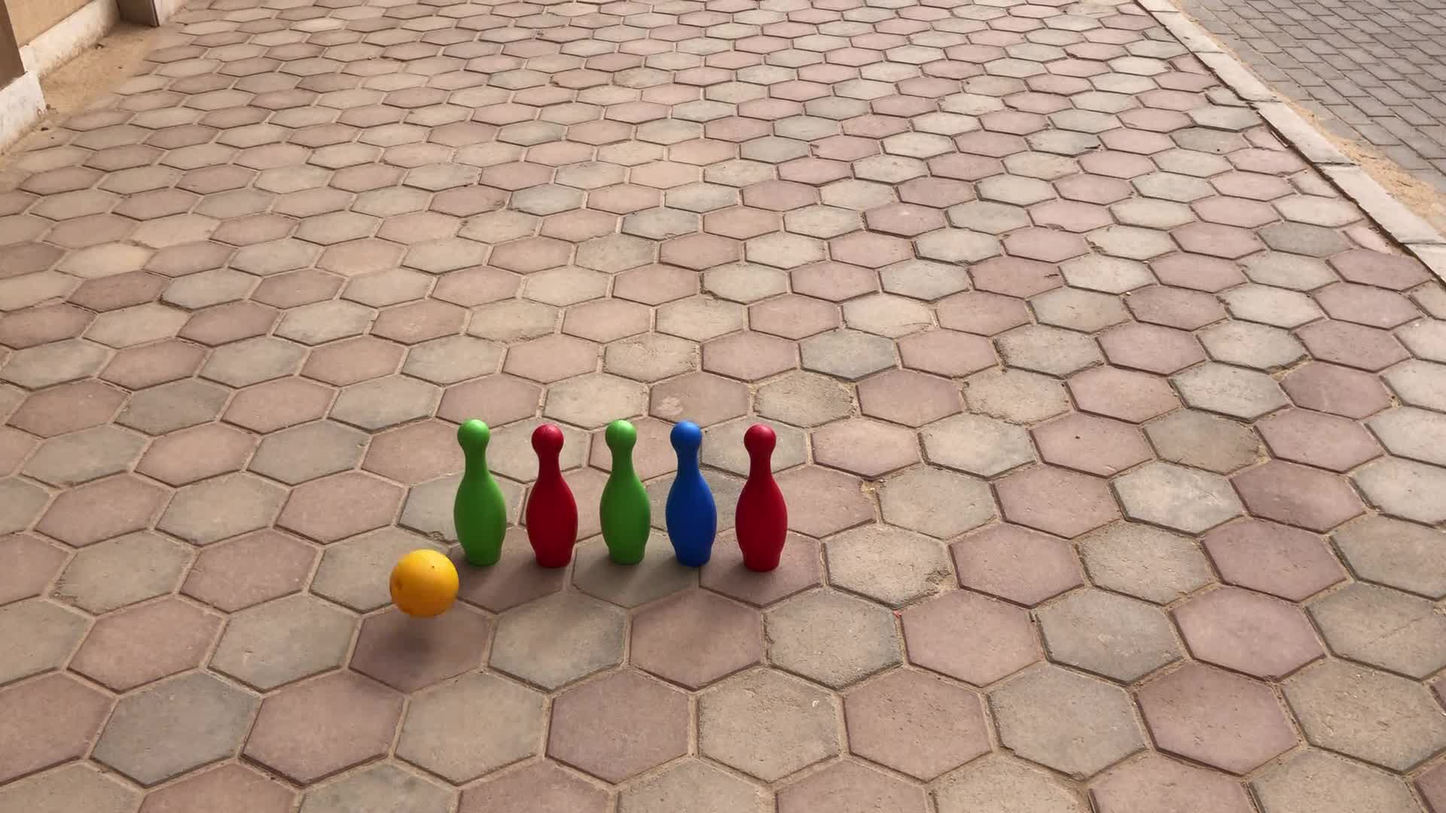pin: (453, 419, 506, 565), (526, 425, 579, 569), (737, 425, 787, 573), (666, 423, 717, 568), (600, 421, 651, 565)
